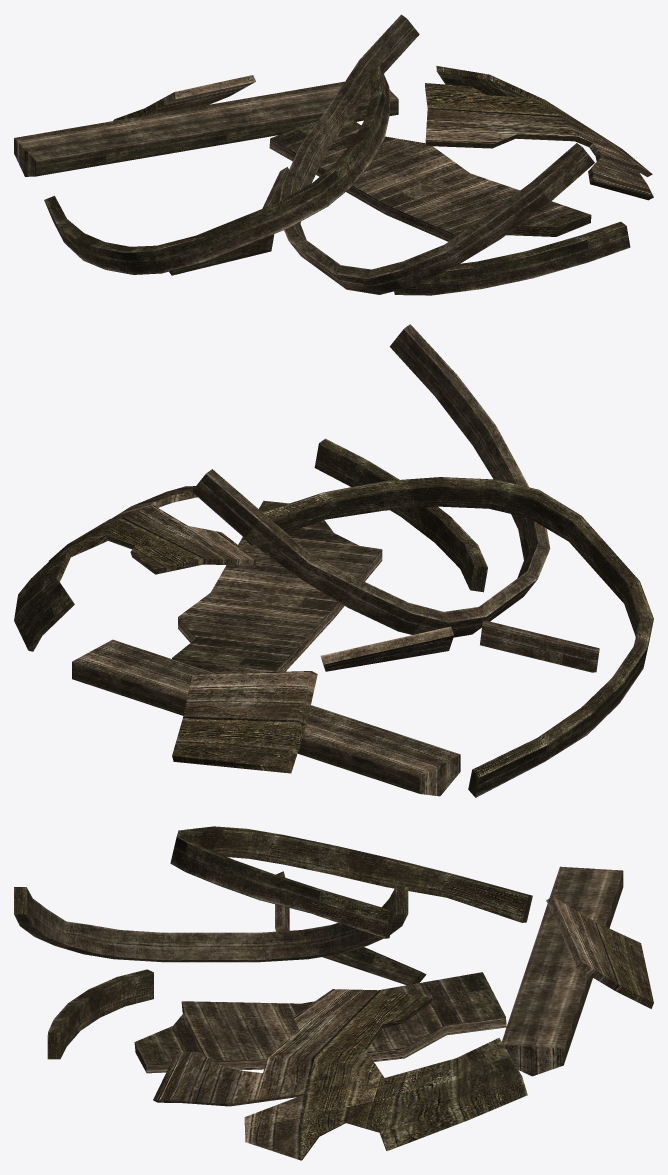
Rendered from ships_broken_piece00.glb.
The picture shows the model from 3 angles, top to bottom: view 1: azimuth 30°, elevation 25°; view 2: azimuth 150°, elevation 25°; view 3: azimuth 270°, elevation 25°; orthographic projection. The views are drawn at different scales.
Visible parts, largest first — view 1: ships_broken_piece00; view 2: ships_broken_piece00; view 3: ships_broken_piece00.
Boxes of the visible parts, <box> form: ships_broken_piece00: <box>14,14,653,295</box>; ships_broken_piece00: <box>14,324,653,797</box>; ships_broken_piece00: <box>14,826,653,1160</box>.
Bounding box in the file's own units: 15.74 × 5.02 × 15.24.
Materials: 1 (1 with a texture image).
